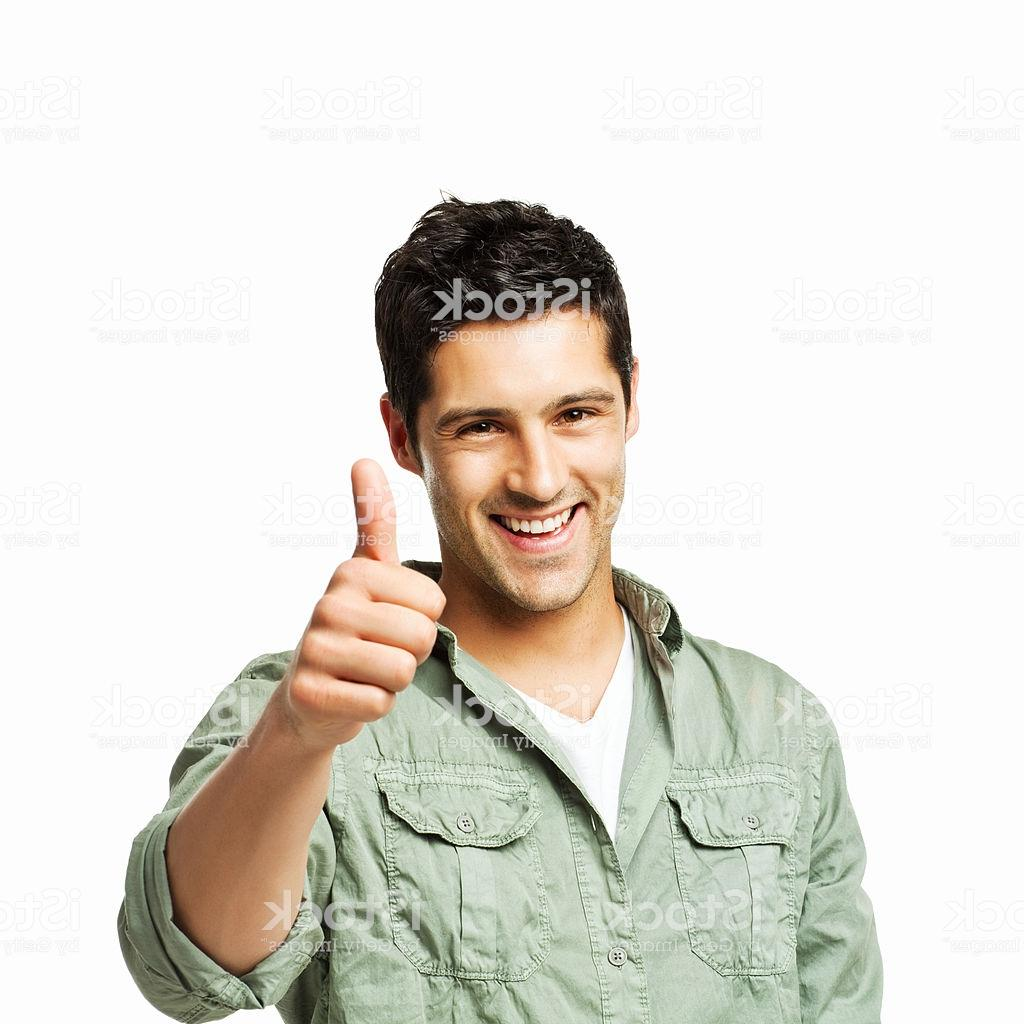thumbsup: (290, 457, 448, 728)
